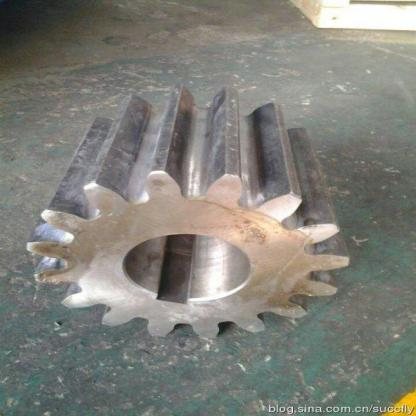FOD: (26, 83, 350, 347)
